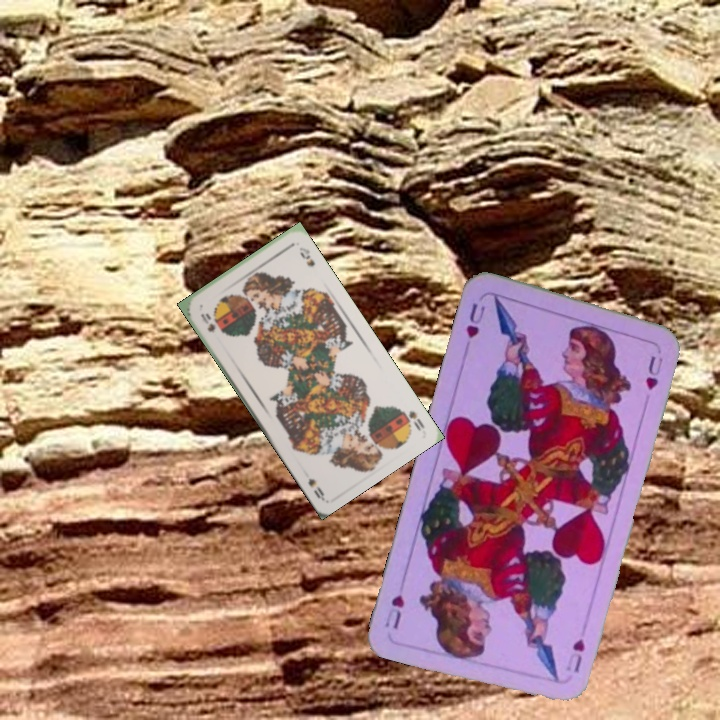HU: (462, 299, 488, 341), (562, 635, 588, 675)
SO: (405, 406, 427, 434), (197, 309, 218, 335)
